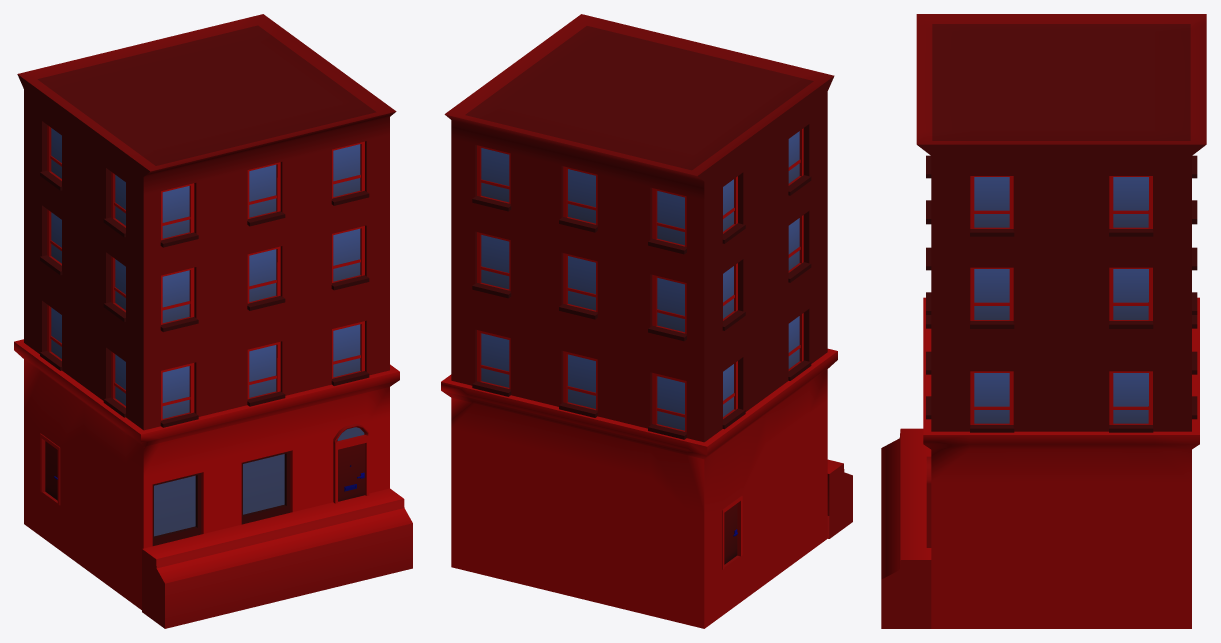
Rendered from buildings-residential-georgianhome_v4.fbx.
3 renders of one model, left to right at view 1: azimuth 30°, elevation 25°; view 2: azimuth 150°, elevation 25°; view 3: azimuth 270°, elevation 25°, orthographic. The views are drawn at different scales.
Visible parts, largest first — view 1: GeorgianHome_v4_base, GeorgianHome_v4_windowRefl; view 2: GeorgianHome_v4_base, GeorgianHome_v4_windowRefl; view 3: GeorgianHome_v4_base, GeorgianHome_v4_windowRefl.
Boxes of the visible parts, box(x1,y1,x2,y2) form: GeorgianHome_v4_base: box(14, 14, 412, 628); GeorgianHome_v4_windowRefl: box(51, 128, 364, 536); GeorgianHome_v4_base: box(441, 14, 852, 628); GeorgianHome_v4_windowRefl: box(481, 131, 799, 430); GeorgianHome_v4_base: box(881, 14, 1206, 628); GeorgianHome_v4_windowRefl: box(974, 177, 1148, 423).
Size of the model in its own units: 11.34 by 18.64 by 11.34.
